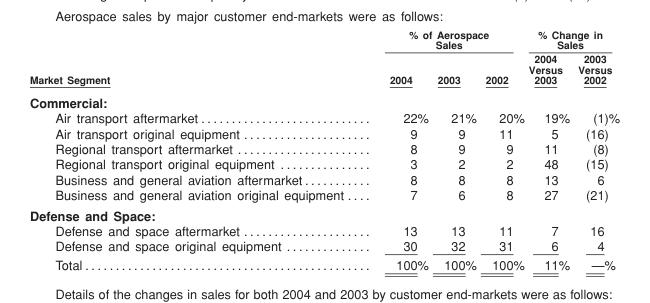table: (28, 28, 619, 272)
table column: (28, 28, 365, 272), (365, 28, 432, 272), (432, 28, 480, 272), (525, 28, 573, 272), (573, 28, 619, 272), (480, 28, 525, 272)
table column header: (28, 28, 619, 90)
table projected row header: (28, 90, 619, 110), (28, 204, 619, 222)
table row: (28, 51, 619, 90), (28, 28, 619, 51), (28, 90, 619, 110), (28, 186, 619, 204), (28, 204, 619, 222), (28, 237, 619, 255), (28, 255, 619, 272), (28, 140, 619, 156), (28, 110, 619, 125), (28, 125, 619, 140), (28, 156, 619, 171), (28, 171, 619, 186), (28, 222, 619, 237)
table spanning cell: (28, 28, 365, 90), (365, 28, 525, 51), (525, 28, 619, 51)
